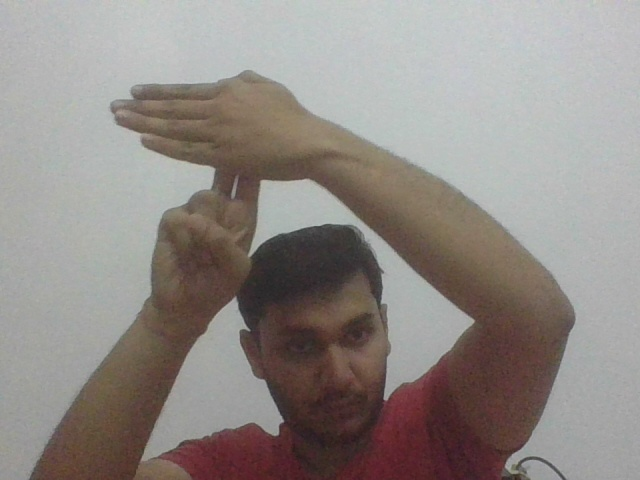N: (107, 68, 306, 200)
